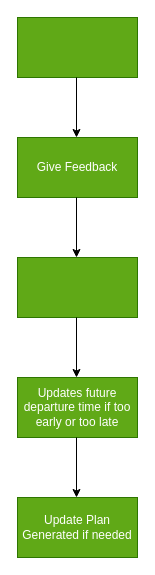
The diagram is 155 pixels wide and 575 high, and some of its shapes have lost their labels. Each missing label, with the centre of its shape:
Arrive at Destination: (x=77, y=47)
System Records Data: (x=77, y=287)
